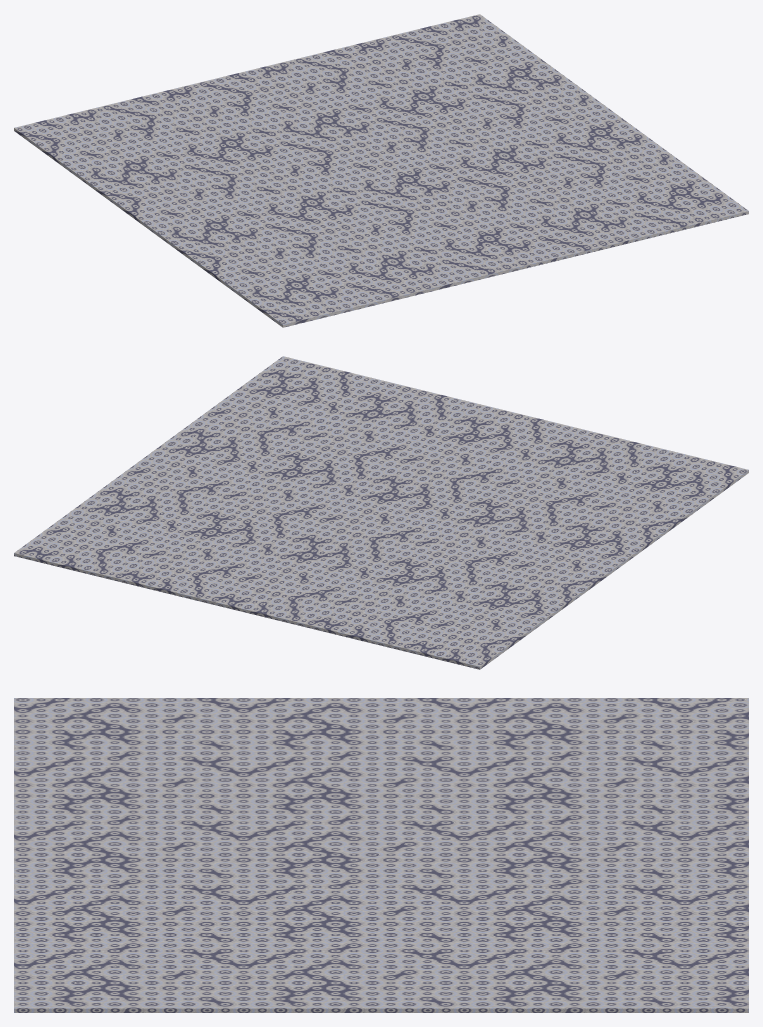
The model's file is ground1Parcel.glb.
3 renders of one model, top to bottom at view 1: azimuth 30°, elevation 25°; view 2: azimuth 150°, elevation 25°; view 3: azimuth 270°, elevation 25°, orthographic. The views are drawn at different scales.
Parts seen in each view (by area): view 1: ground_5Parcel; view 2: ground_5Parcel; view 3: ground_5Parcel.
Part boxes in pixels (box(x1,y1,x2,y2)): ground_5Parcel: box(14, 14, 748, 327); ground_5Parcel: box(14, 356, 748, 669); ground_5Parcel: box(14, 698, 748, 1012).
Size of what is drawn, in the model's own units: 16 by 0.1 by 16.
Materials: 1 (1 with a texture image).
